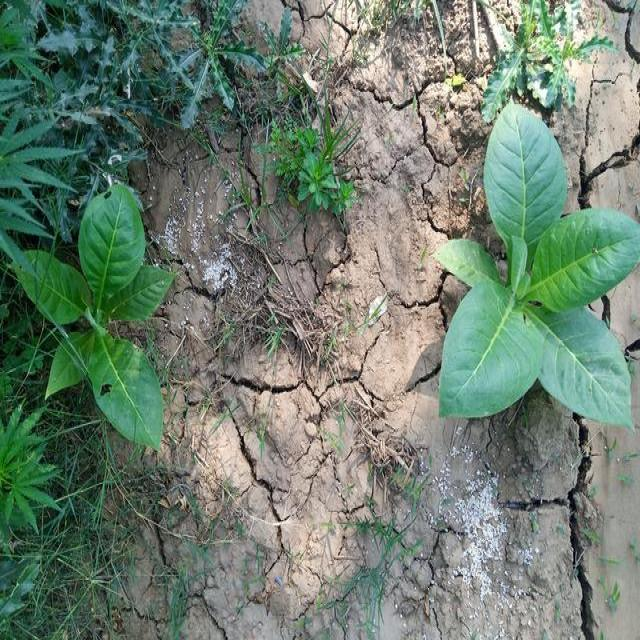crop: (443, 99, 620, 419), (25, 187, 186, 451)
